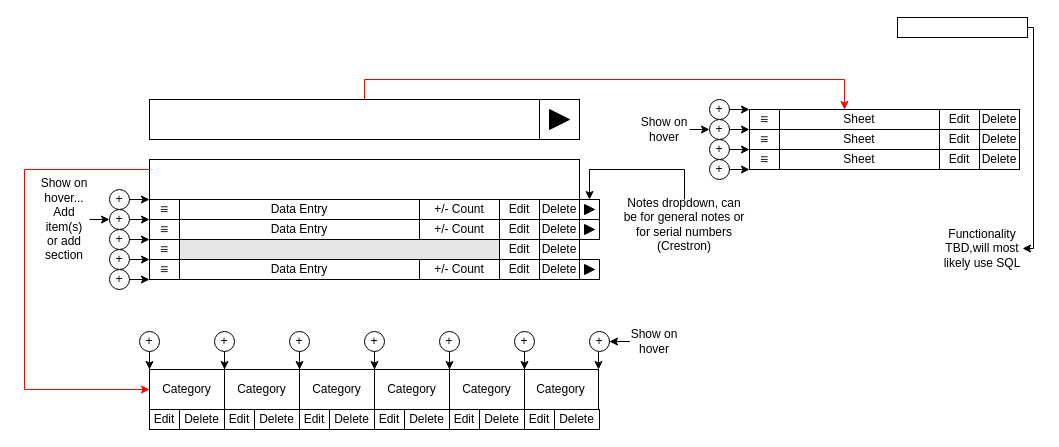
The diagram is 1059 pixels wide and 447 high, and some of its shapes have lost their labels. Each missing label, with the centre of its shape:
"Categories Header" belongs at point (364, 179).
"Search" belongs at point (962, 27).
"Section" belongs at point (339, 249).
"Sheet Selection" belongs at point (344, 119).
